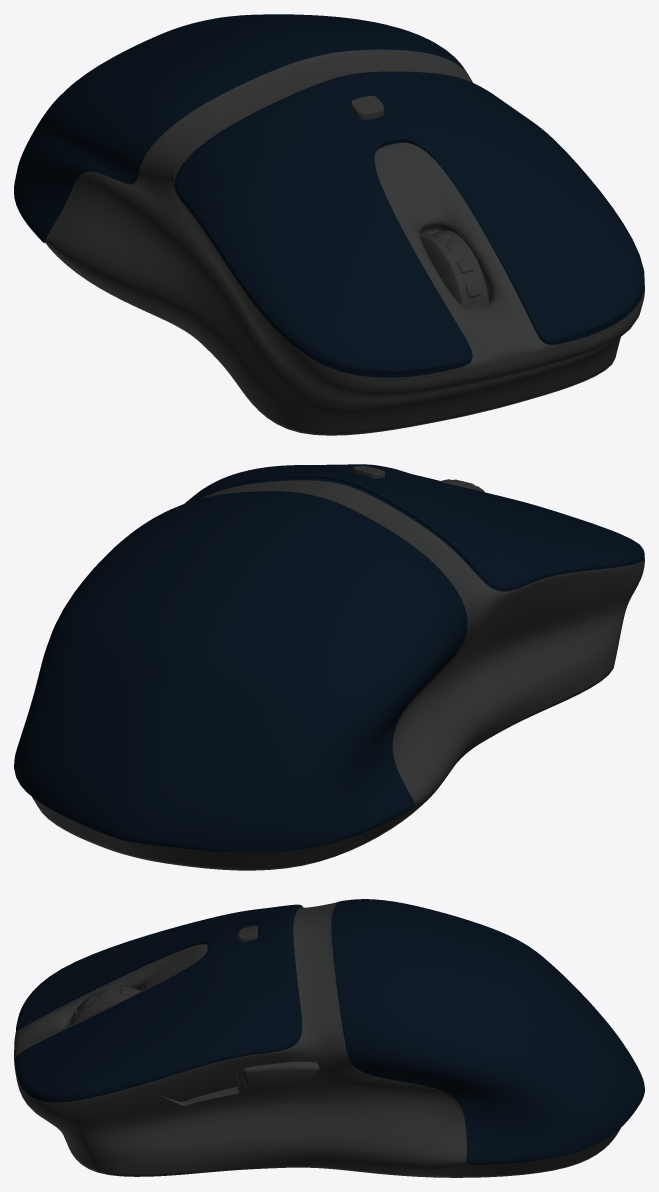
The model's file is pc_wireless_mouse.glb.
The picture shows the model from 3 angles, top to bottom: view 1: azimuth 30°, elevation 25°; view 2: azimuth 150°, elevation 25°; view 3: azimuth 270°, elevation 25°; orthographic projection. The views are drawn at different scales.
Parts seen in each view (by area): view 1: mouse1, mouse_wheel.001; view 2: mouse1; view 3: mouse1, mouse_side_button1, mouse_wheel.001, mouse_side_button2.
Part boxes in pixels (x1,y1,x2,y2): mouse1: (14,14,644,435); mouse_wheel.001: (420,230,489,308); mouse1: (14,464,644,870); mouse1: (14,899,644,1177); mouse_side_button1: (242,1061,319,1088); mouse_wheel.001: (69,987,141,1025); mouse_side_button2: (161,1073,240,1106).
Size of the model in its own units: 0.0916 by 0.055 by 0.1658.
